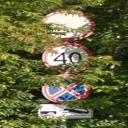speed_limit_40: (37, 40, 96, 74)
